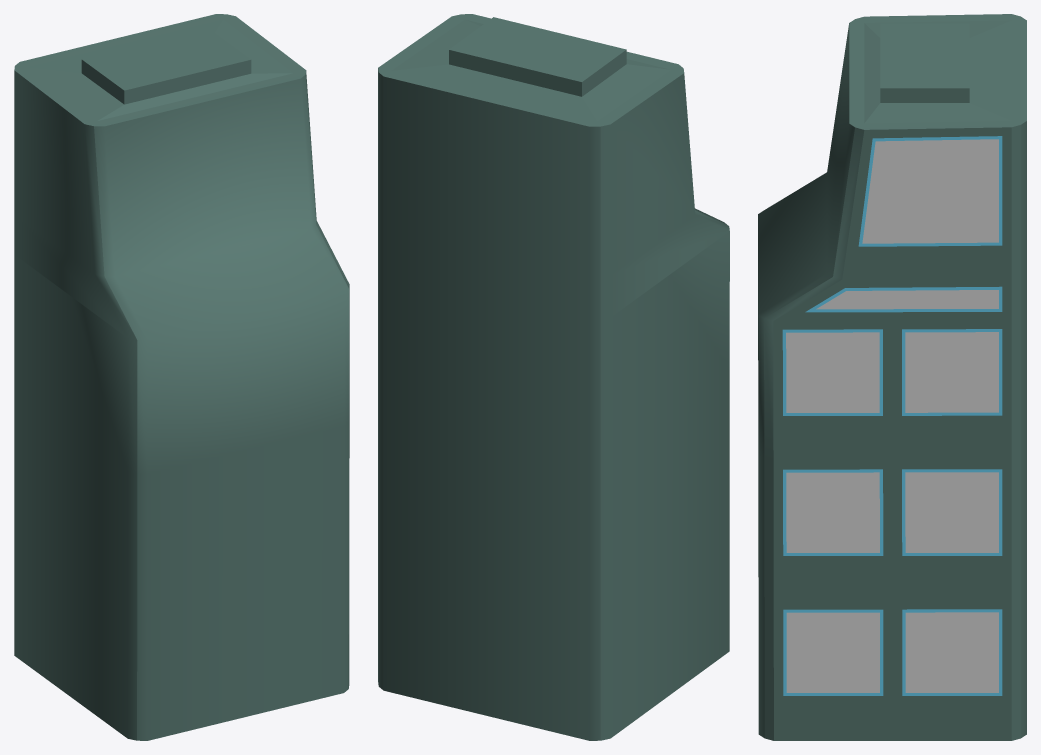
Rendered from predio2.FBX.
The picture shows the model from 3 angles, left to right: view 1: azimuth 30°, elevation 25°; view 2: azimuth 150°, elevation 25°; view 3: azimuth 270°, elevation 25°; orthographic projection. The views are drawn at different scales.
Parts seen in each view (by area): view 1: Box001; view 2: Box001; view 3: Box001.
Boxes of the visible parts, bbox=[...] form: Box001: bbox=[14, 14, 349, 740]; Box001: bbox=[378, 14, 729, 740]; Box001: bbox=[758, 14, 1026, 740].
Size of the model in its own units: 20 by 51.7 by 20.05.
